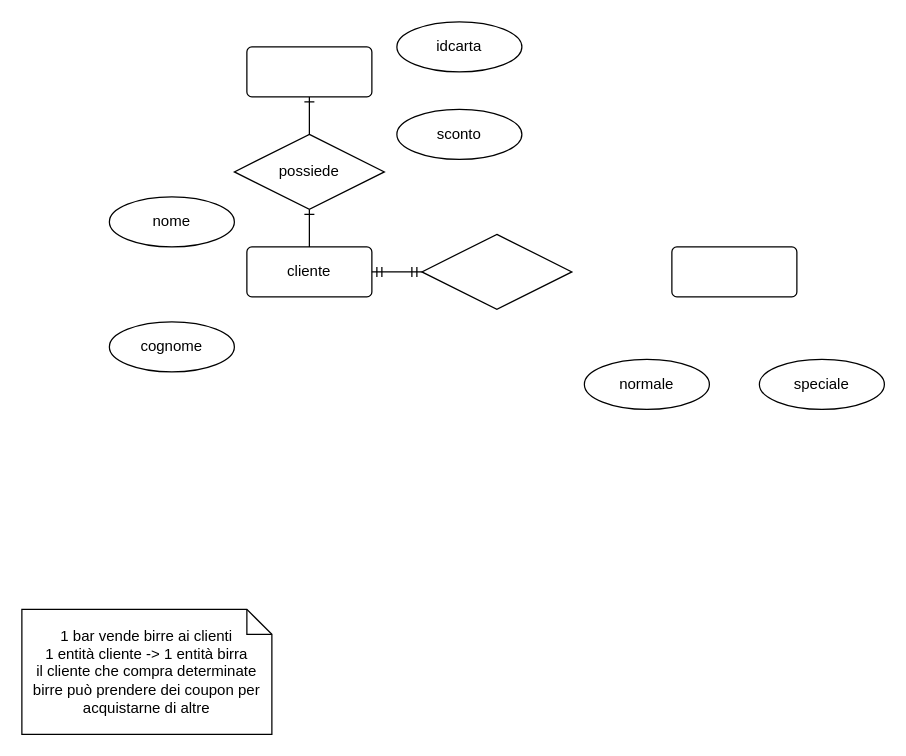
The diagram is 906 pixels wide and 756 high, and some of its shapes have lost their labels. Each missing label, with the centre of its shape:
"birra" goes at point 734,271.
"carta fedeltà" goes at point 309,71.
"compra" goes at point 496,271.
